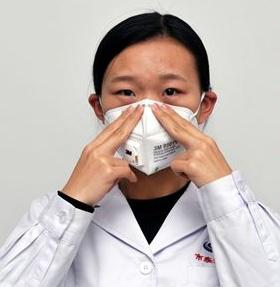OK: (107, 60, 198, 176)
